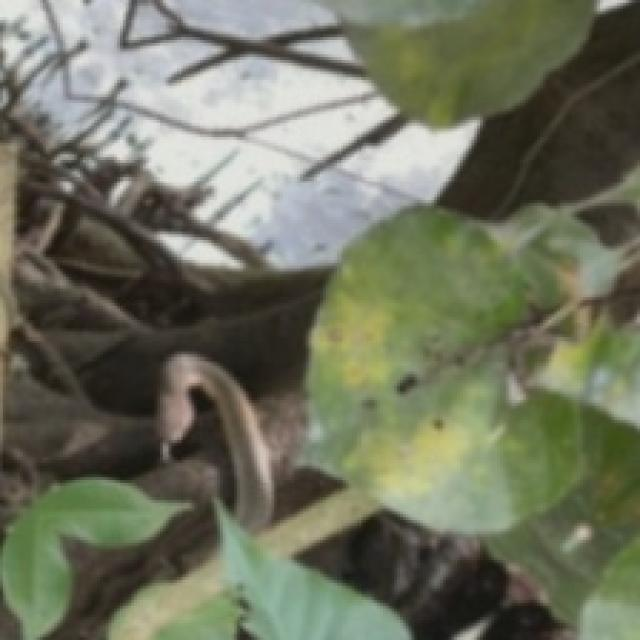king cobra: (158, 354, 274, 529)
